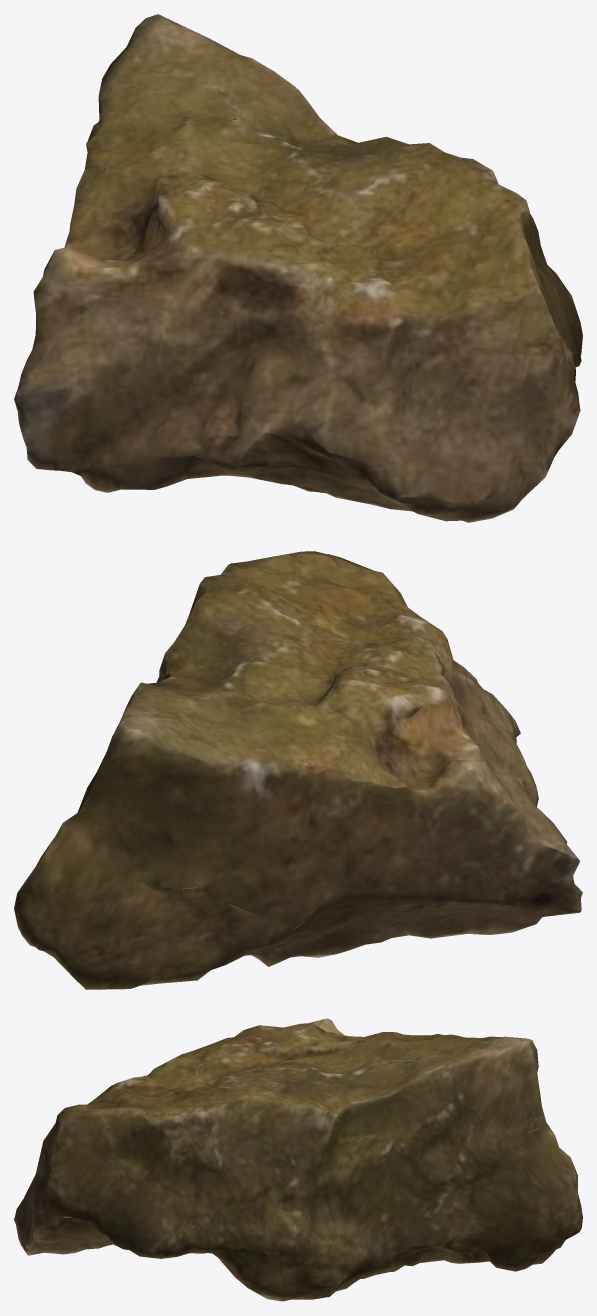
Rendered from rock_moss_set_01_5.glb.
3 renders of one model, top to bottom at view 1: azimuth 30°, elevation 25°; view 2: azimuth 150°, elevation 25°; view 3: azimuth 270°, elevation 25°, orthographic. The views are drawn at different scales.
Parts seen in each view (by area): view 1: rock_moss_set_01_rock06; view 2: rock_moss_set_01_rock06; view 3: rock_moss_set_01_rock06.
Boxes of the visible parts, x1,y1,x2,y2 form: rock_moss_set_01_rock06: [14, 14, 582, 522]; rock_moss_set_01_rock06: [14, 551, 582, 989]; rock_moss_set_01_rock06: [14, 1018, 582, 1301].
Size of the model in its own units: 2.13 by 1.25 by 2.76.
1 material, 1 textured.
